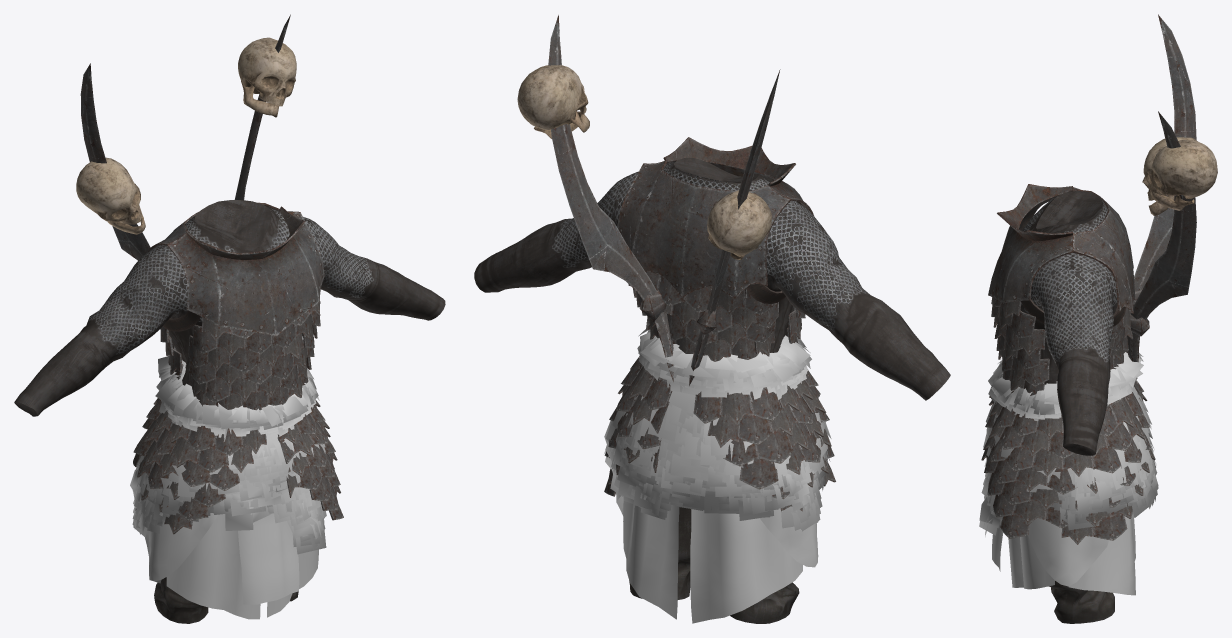
Rendered from sk_gb_uruk_chest_lord_c.fbx.
3 renders of one model, left to right at view 1: azimuth 30°, elevation 25°; view 2: azimuth 150°, elevation 25°; view 3: azimuth 270°, elevation 25°, orthographic. The views are drawn at different scales.
Visible parts, largest first — view 1: sk_gb_uruk_chest_lord_c.base.3, sk_gb_uruk_chest_lord_c.base.1, sk_gb_uruk_chest_lord_c.skirt.2, sk_gb_uruk_chest_lord_c.skirt.1, sk_gb_uruk_chest_lord_c.skirt.3, sk_gb_uruk_chest_lord_c.base.2, sk_gb_uruk_chest_lord_c.base.0; view 2: sk_gb_uruk_chest_lord_c.base.1, sk_gb_uruk_chest_lord_c.skirt.2, sk_gb_uruk_chest_lord_c.base.3, sk_gb_uruk_chest_lord_c.base.2, sk_gb_uruk_chest_lord_c.skirt.1, sk_gb_uruk_chest_lord_c.skirt.3, sk_gb_uruk_chest_lord_c.base.0; view 3: sk_gb_uruk_chest_lord_c.base.1, sk_gb_uruk_chest_lord_c.skirt.3, sk_gb_uruk_chest_lord_c.base.3, sk_gb_uruk_chest_lord_c.base.2, sk_gb_uruk_chest_lord_c.skirt.2, sk_gb_uruk_chest_lord_c.skirt.1, sk_gb_uruk_chest_lord_c.base.0.
Boxes of the visible parts, left/top/right/bottom form: sk_gb_uruk_chest_lord_c.base.3: left=148, top=202, right=324, bottom=410; sk_gb_uruk_chest_lord_c.base.1: left=14, top=200, right=445, bottom=416; sk_gb_uruk_chest_lord_c.skirt.2: left=130, top=356, right=326, bottom=554; sk_gb_uruk_chest_lord_c.skirt.1: left=145, top=513, right=324, bottom=619; sk_gb_uruk_chest_lord_c.skirt.3: left=133, top=398, right=343, bottom=534; sk_gb_uruk_chest_lord_c.base.2: left=76, top=14, right=296, bottom=331; sk_gb_uruk_chest_lord_c.base.0: left=154, top=577, right=298, bottom=623; sk_gb_uruk_chest_lord_c.base.1: left=474, top=158, right=950, bottom=400; sk_gb_uruk_chest_lord_c.skirt.2: left=604, top=329, right=831, bottom=531; sk_gb_uruk_chest_lord_c.base.3: left=617, top=137, right=813, bottom=361; sk_gb_uruk_chest_lord_c.base.2: left=517, top=15, right=785, bottom=385; sk_gb_uruk_chest_lord_c.skirt.1: left=616, top=492, right=818, bottom=623; sk_gb_uruk_chest_lord_c.skirt.3: left=604, top=356, right=835, bottom=511; sk_gb_uruk_chest_lord_c.base.0: left=629, top=507, right=799, bottom=623; sk_gb_uruk_chest_lord_c.base.1: left=1020, top=191, right=1117, bottom=455; sk_gb_uruk_chest_lord_c.skirt.3: left=981, top=380, right=1155, bottom=544; sk_gb_uruk_chest_lord_c.base.3: left=988, top=184, right=1135, bottom=395; sk_gb_uruk_chest_lord_c.base.2: left=1020, top=14, right=1217, bottom=379; sk_gb_uruk_chest_lord_c.skirt.2: left=979, top=352, right=1158, bottom=536; sk_gb_uruk_chest_lord_c.skirt.1: left=992, top=512, right=1135, bottom=595; sk_gb_uruk_chest_lord_c.base.0: left=1048, top=581, right=1114, bottom=623.
Size of the model in its own units: 1.35 by 0.6638 by 1.63.
